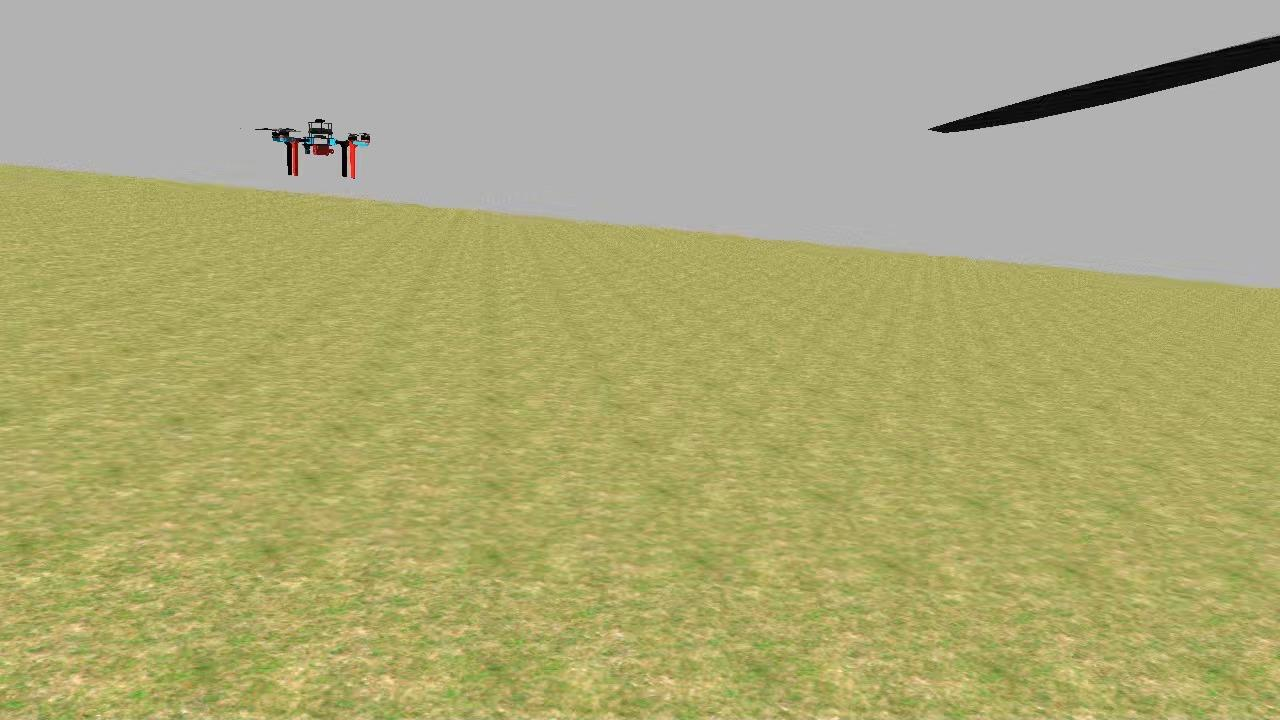UAV: (263, 112, 376, 192)
